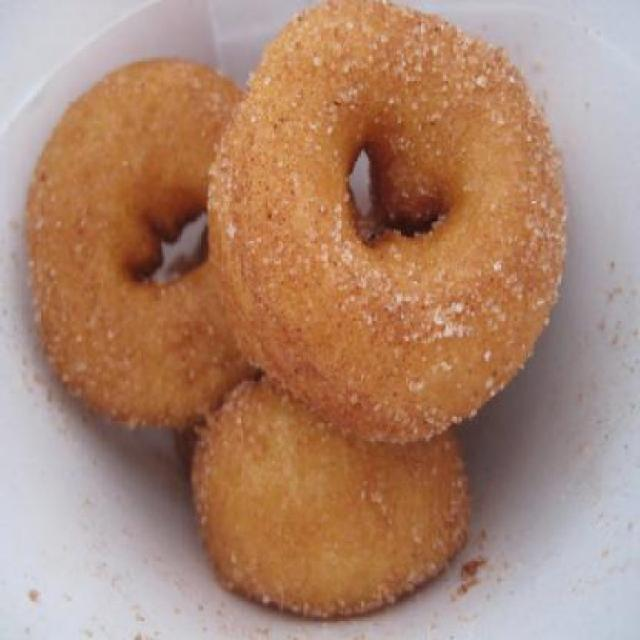Donuts: (24, 5, 576, 610)
